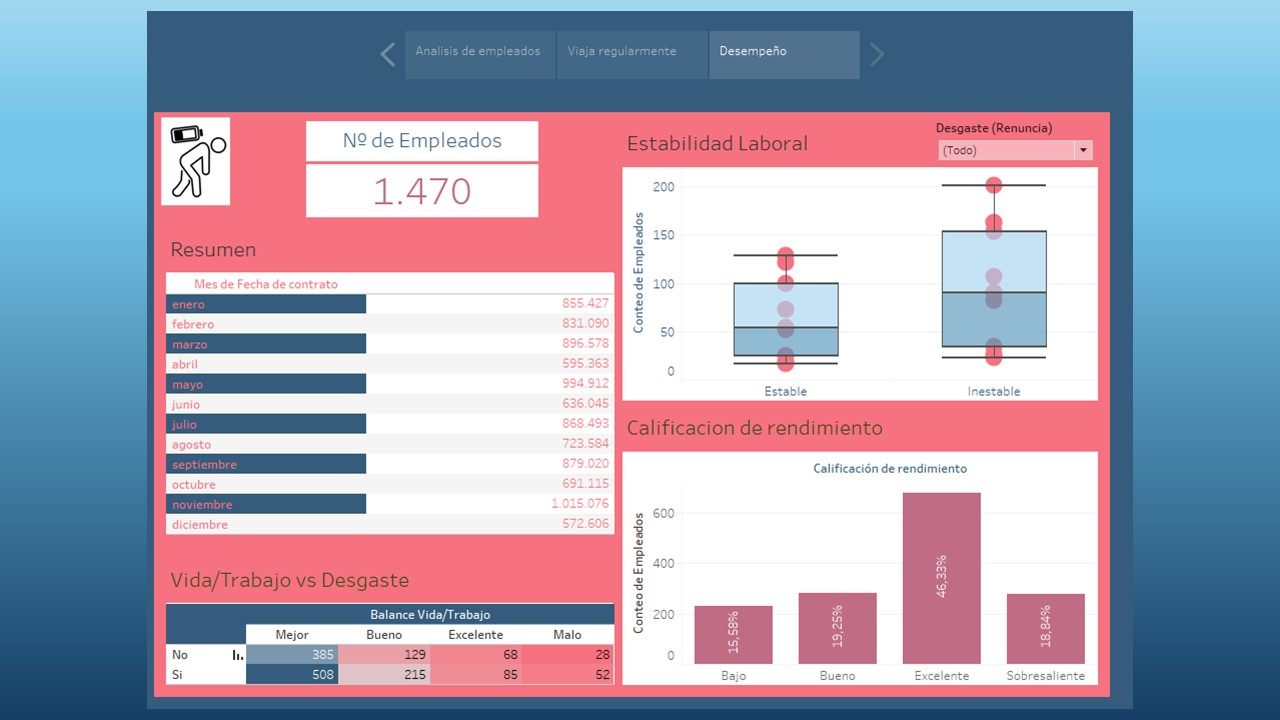

What the dashboard file says about the page in this screenshot:
{"tool":"tableau","page":{"name":"Dashboard 3","canvas":[955,584],"ordinal":2},"visuals":[{"type":"image","param":"Image/Imagen1.jpg","box":[7,5,130,88]},{"type":"filter","title":"Vida/Trabajo vs Desgaste","param":"[federated.0mt8rpq13oqyke17wt57405n3npc].[none:Desgaste_(Renuncia):nk]","box":[781,7,160,44]},{"type":"blank","box":[8,8,456,106]},{"type":"worksheet","title":"Estabilidad Laboral","mark":"Circle","rows":["Calculation_673569663752790020"],"cols":["Calculation_1123085207553531912"],"box":[464,8,483,284]},{"type":"worksheet","title":"Nº de Empleados","mark":"Automatic","box":[152,9,232,103]},{"type":"worksheet","title":"Resumen","mark":"Automatic","rows":["Fecha de contrato"],"box":[8,114,456,330]},{"type":"worksheet","title":"Calificacion de rendimiento","mark":"Automatic","rows":["Calculation_673569663752790020"],"cols":["Calificación de rendimiento"],"box":[464,292,483,284]},{"type":"worksheet","title":"Vida/Trabajo vs Desgaste","mark":"Square","rows":["Desgaste_(Renuncia)"],"cols":["Balance Vida/Trabajo"],"box":[8,444,456,132]}]}

Visuals, with their boxes on the page's 955x584 design canvas (x1, y1, x2, y2). These are canvas units, not pixel positions in the 1280x720 screenshot, which may show the page scaled, cropped or inside an application window:
image: [x1=7, y1=5, x2=137, y2=93]
"Vida/Trabajo vs Desgaste" filter: [x1=781, y1=7, x2=941, y2=51]
blank: [x1=8, y1=8, x2=464, y2=114]
"Estabilidad Laboral" worksheet (Circle marks): [x1=464, y1=8, x2=947, y2=292]
"Nº de Empleados" worksheet: [x1=152, y1=9, x2=384, y2=112]
"Resumen" worksheet: [x1=8, y1=114, x2=464, y2=444]
"Calificacion de rendimiento" worksheet: [x1=464, y1=292, x2=947, y2=576]
"Vida/Trabajo vs Desgaste" worksheet (Square marks): [x1=8, y1=444, x2=464, y2=576]
